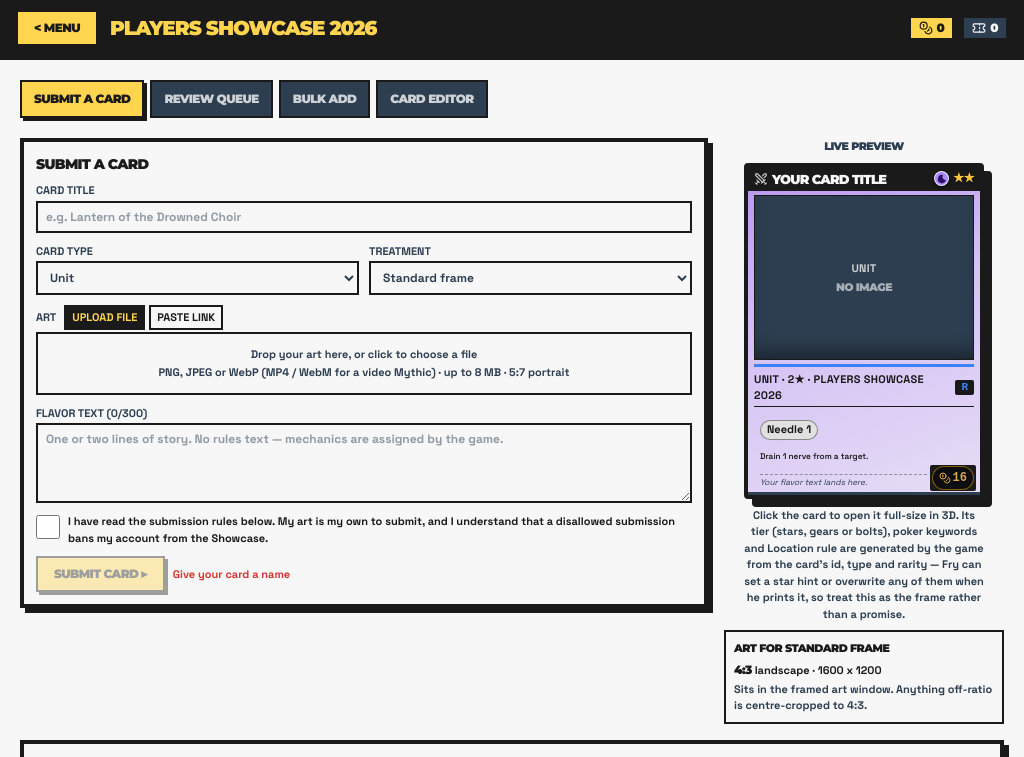
Test case: Creator review queue — poker override editor › the effect select offers only keywords the card’s colours allow
Click the tab "REVIEW QUEUE". click: (212, 99)
box: [150,80,273,118]
(page scrolled)
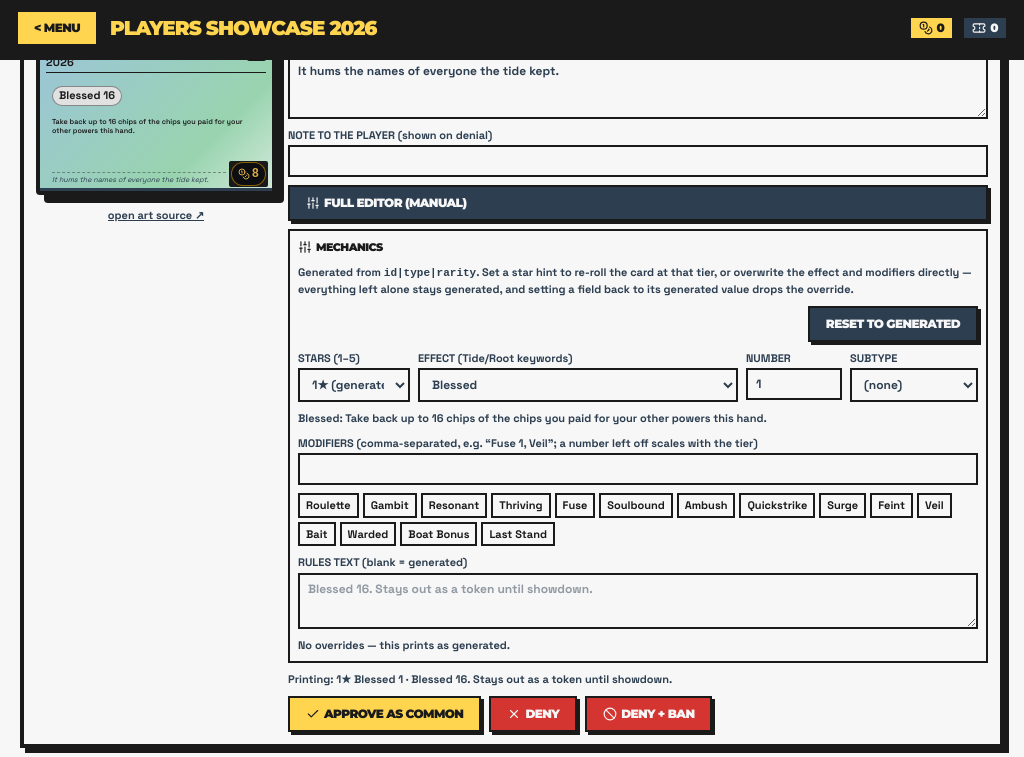
Check: the dropdown named "effect keyword" shows "Blessed", box [418,368,738,402]
